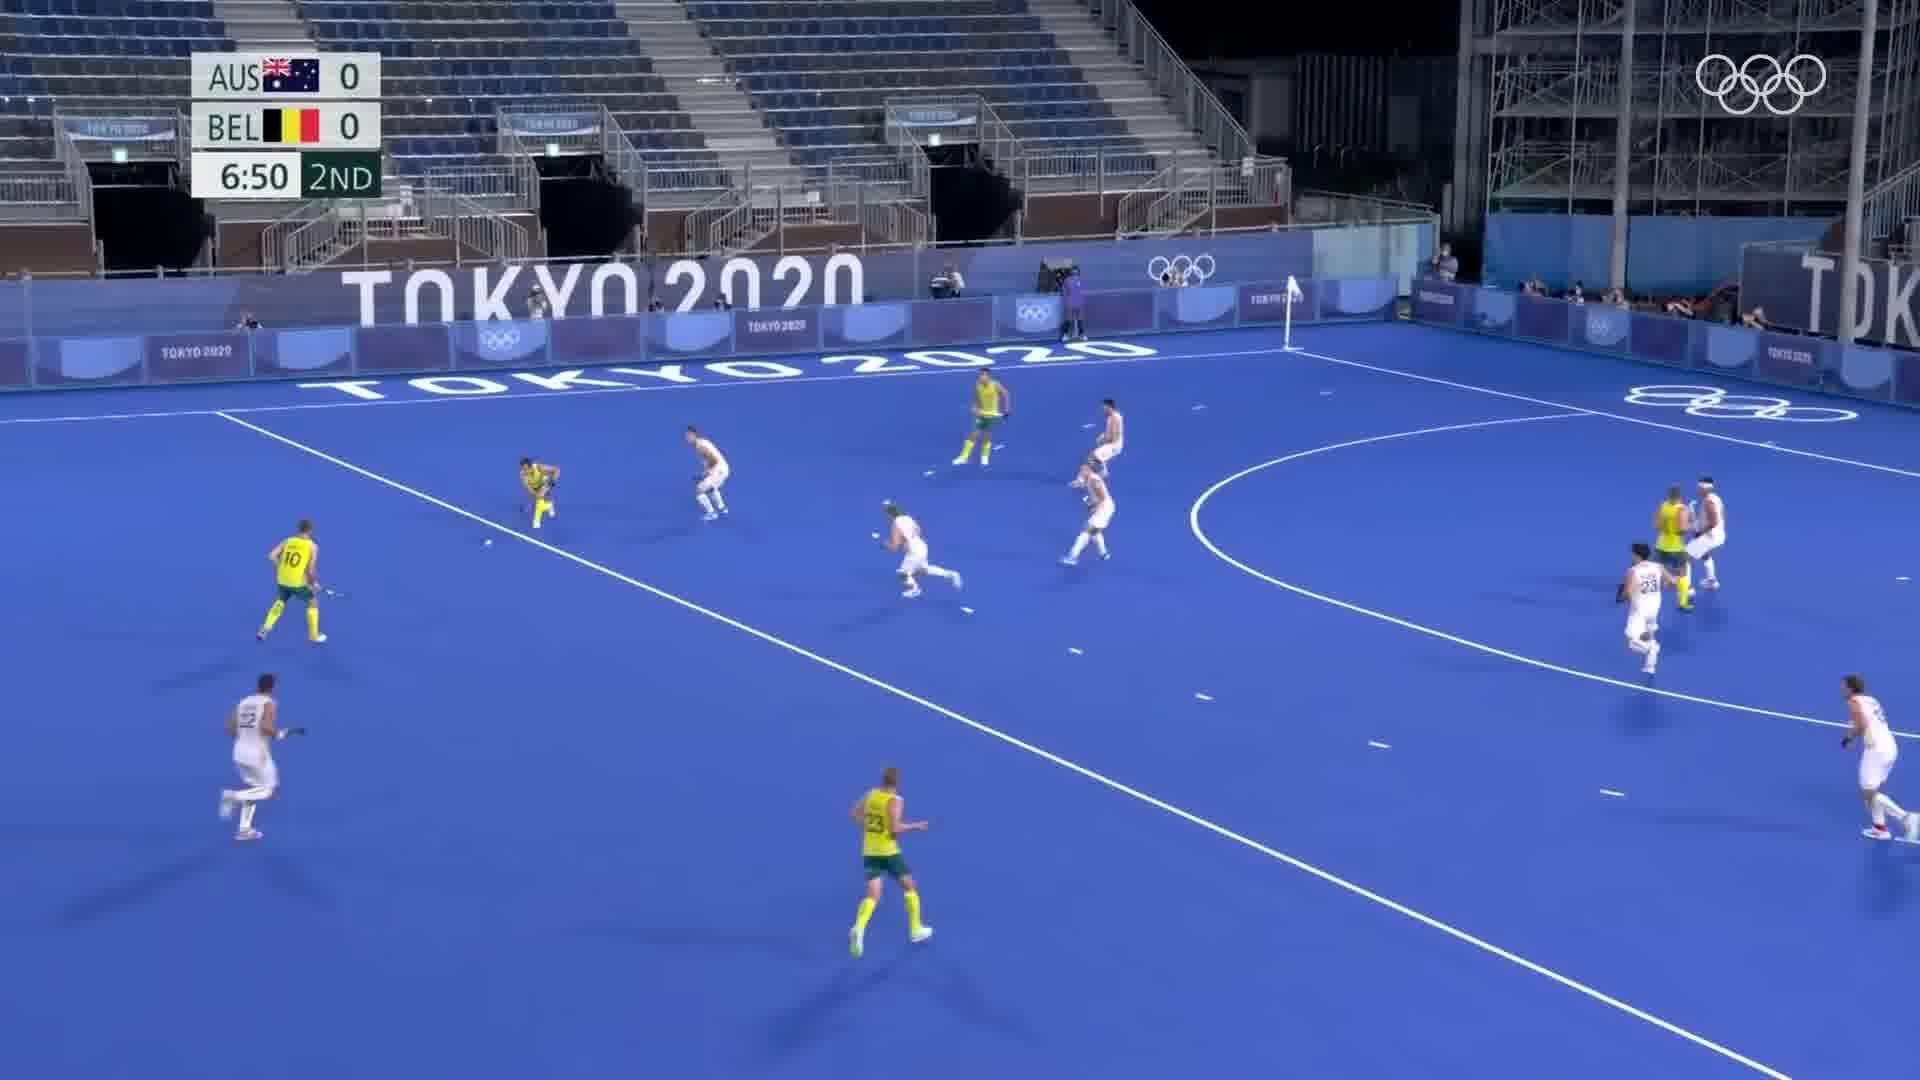ball: (477, 534, 501, 551)
